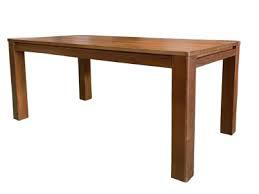desk: (5, 20, 252, 185)
